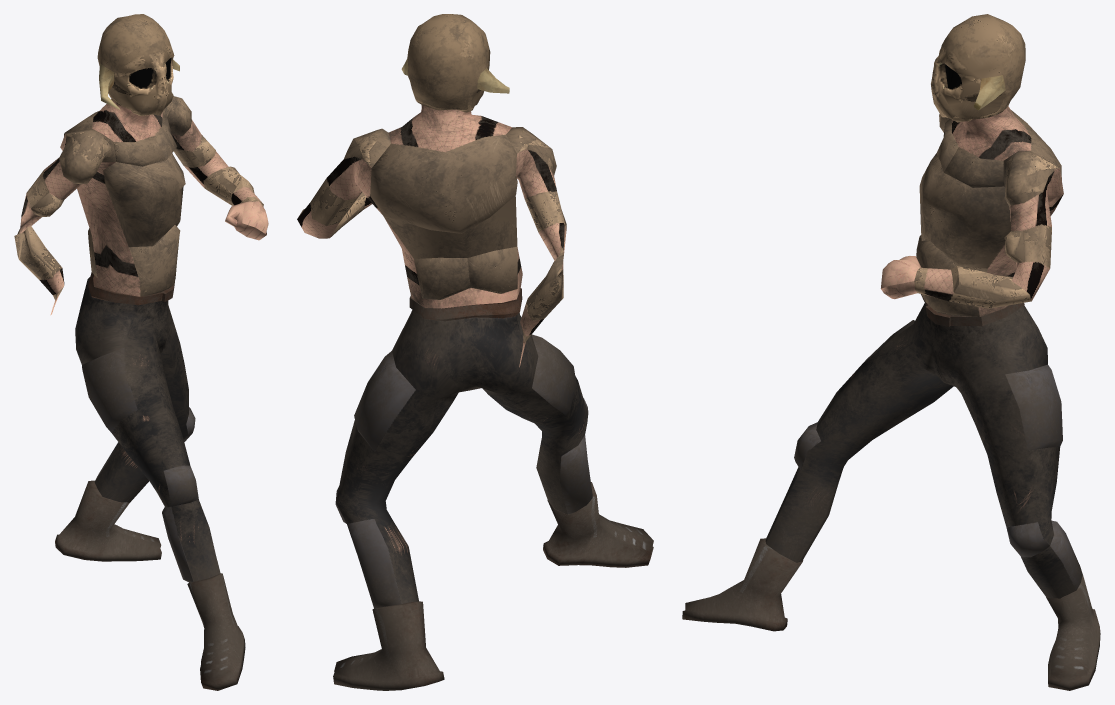
The model's file is Anim_ataque_f2_npc1.0025.obj.
3 views of the same model, side by side, from view 1: azimuth 30°, elevation 25°; view 2: azimuth 150°, elevation 25°; view 3: azimuth 270°, elevation 25° (orthographic). The views are drawn at different scales.
Visible parts, largest first — view 1: NPC2; view 2: NPC2; view 3: NPC2.
Boxes of the visible parts, x1,y1,x2,y2 form: NPC2: [14, 14, 268, 690]; NPC2: [297, 14, 653, 690]; NPC2: [682, 14, 1100, 690].
Bounding box in the file's own units: 3.76 × 9.13 × 5.42.
